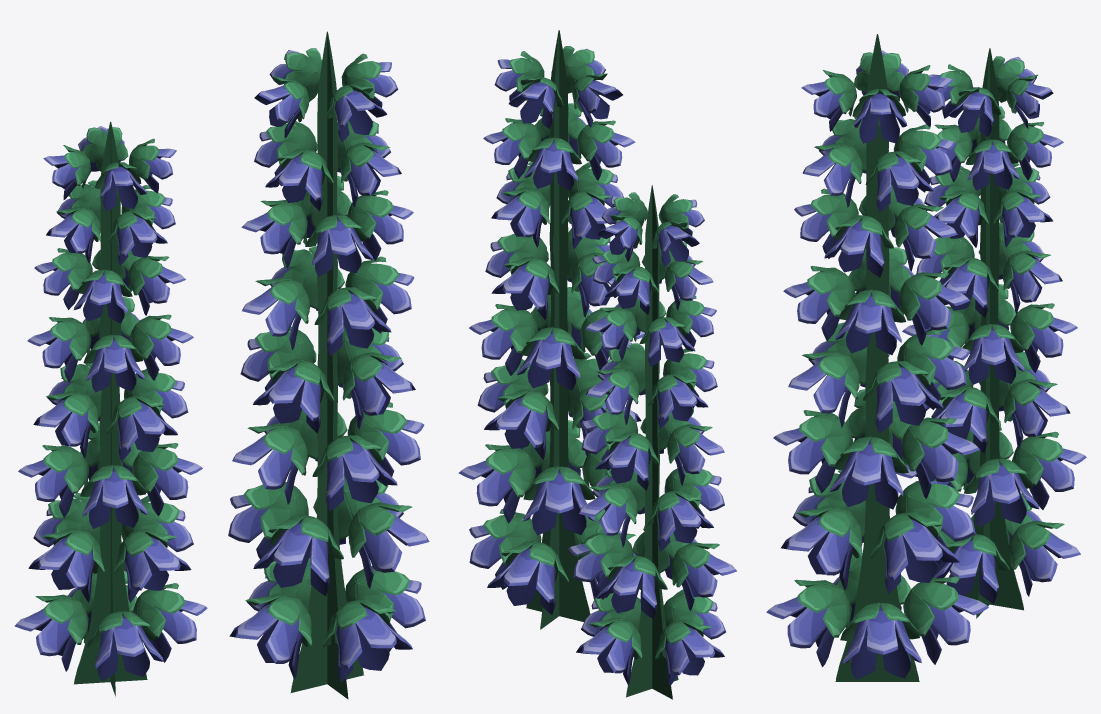
The model's file is Bellflower.fbx.
3 views of the same model, side by side, from view 1: azimuth 30°, elevation 25°; view 2: azimuth 150°, elevation 25°; view 3: azimuth 270°, elevation 25° (orthographic). The views are drawn at different scales.
Parts seen in each view (by area): view 1: Bellflower; view 2: Bellflower; view 3: Bellflower.
Part boxes in pixels (left/top/right/bottom): Bellflower: left=14, top=31, right=429, bottom=699; Bellflower: left=458, top=30, right=736, bottom=699; Bellflower: left=766, top=34, right=1086, bottom=681.
Size of the model in its own units: 0.8994 by 1.65 by 0.7387.
